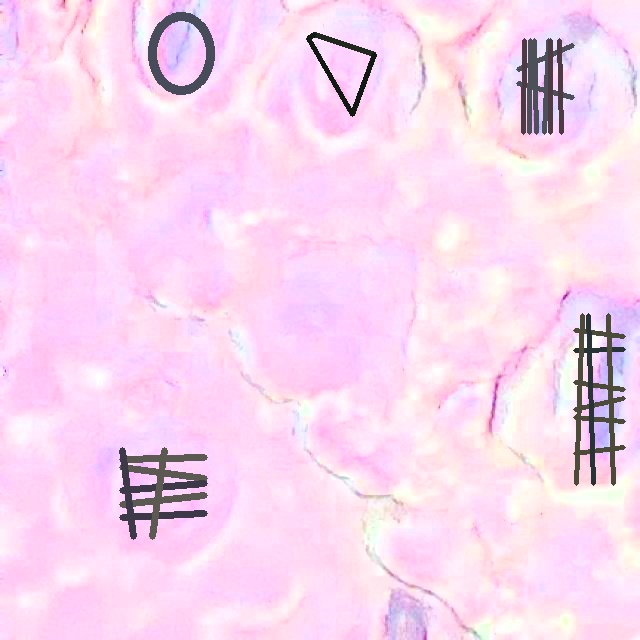open: (573, 313, 625, 485), (120, 447, 207, 538), (306, 32, 375, 115), (147, 11, 214, 95), (517, 39, 573, 134)
